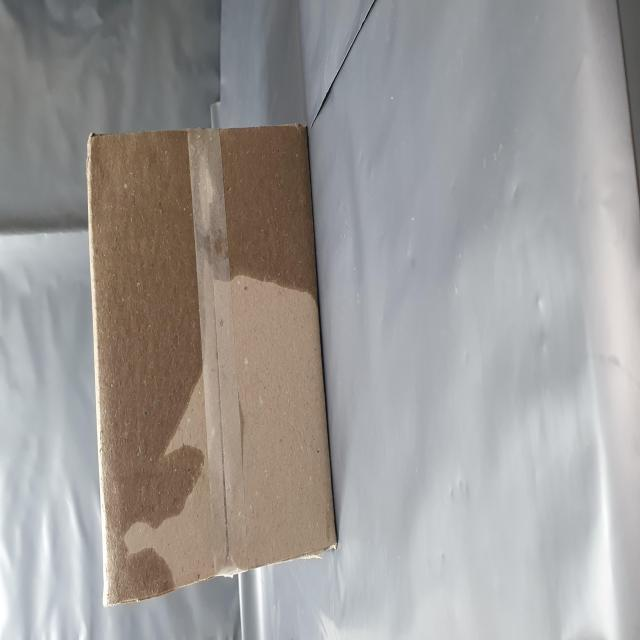wet: (32, 174, 296, 583)
